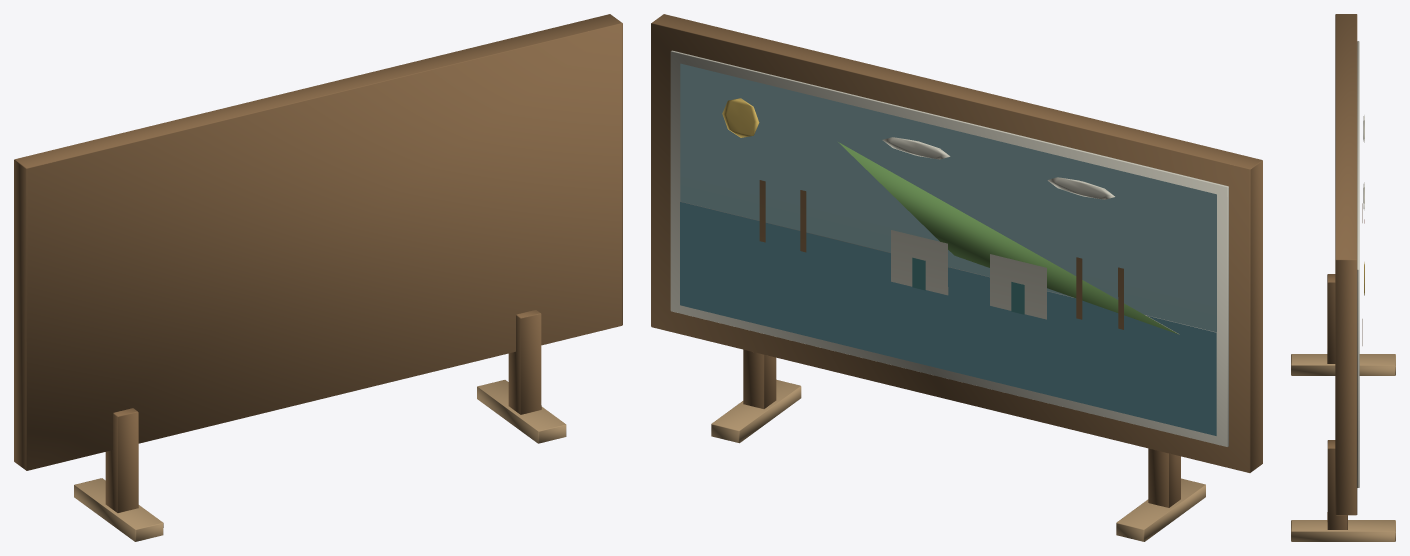
The model's file is mural_stage3_low.glb.
The picture shows the model from 3 angles, left to right: view 1: azimuth 30°, elevation 25°; view 2: azimuth 150°, elevation 25°; view 3: azimuth 270°, elevation 25°; orthographic projection. The views are drawn at different scales.
Size of the model in its own units: 4 by 2.4 by 0.72.
